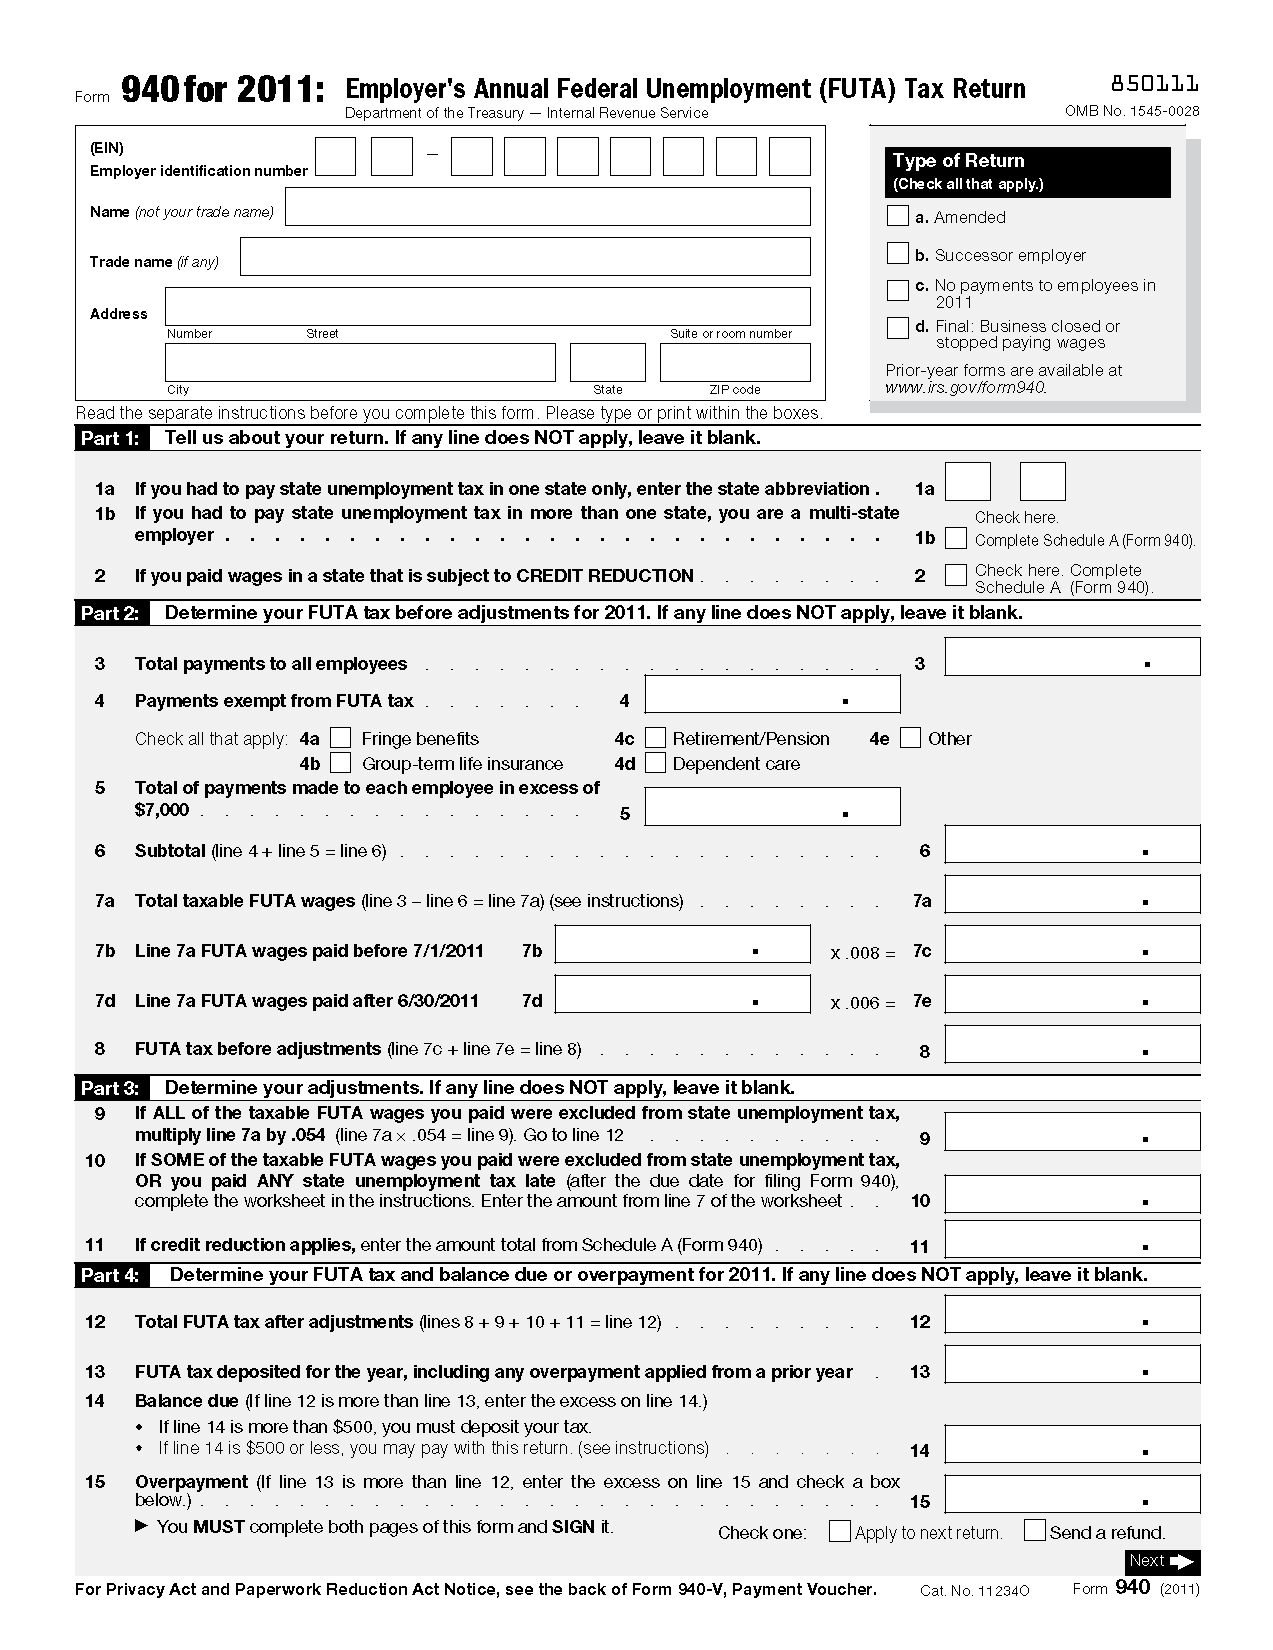checkbox: (884, 277, 915, 306), (883, 313, 913, 342), (641, 746, 671, 776), (883, 201, 912, 230), (941, 521, 971, 551), (941, 560, 971, 590), (326, 722, 356, 751), (326, 747, 356, 777), (641, 722, 670, 751), (825, 1515, 854, 1544), (1019, 1514, 1048, 1543), (884, 239, 915, 267), (895, 723, 925, 751)
textbox: (158, 282, 814, 328), (235, 233, 814, 279), (279, 183, 814, 231), (156, 337, 559, 386), (941, 1289, 1207, 1338), (641, 669, 905, 718), (641, 781, 905, 830), (551, 919, 816, 968), (550, 968, 814, 1018), (939, 820, 1203, 869), (940, 868, 1205, 917), (940, 920, 1205, 969), (941, 968, 1206, 1018), (939, 1019, 1203, 1068), (939, 1213, 1203, 1262), (940, 1420, 1205, 1469), (939, 632, 1203, 681), (940, 1108, 1205, 1157), (941, 1167, 1206, 1215), (940, 1338, 1205, 1387), (939, 1469, 1203, 1518), (655, 337, 814, 386), (566, 336, 653, 386), (940, 457, 998, 507), (1014, 456, 1071, 505), (366, 132, 416, 181), (447, 132, 497, 179), (499, 132, 550, 179), (604, 132, 655, 179), (657, 132, 707, 179), (711, 132, 762, 179), (764, 132, 814, 179), (310, 132, 360, 179), (552, 132, 602, 179)
